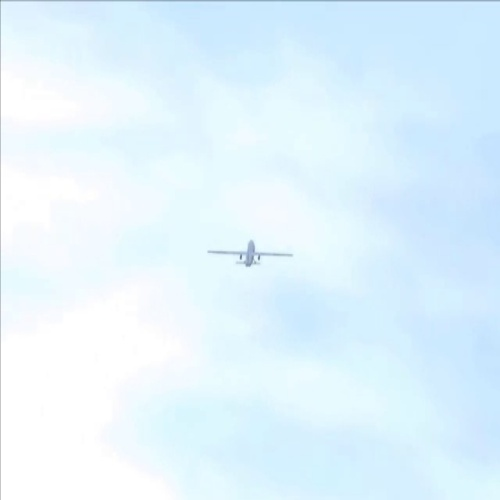uav955: (207, 235, 298, 270)
